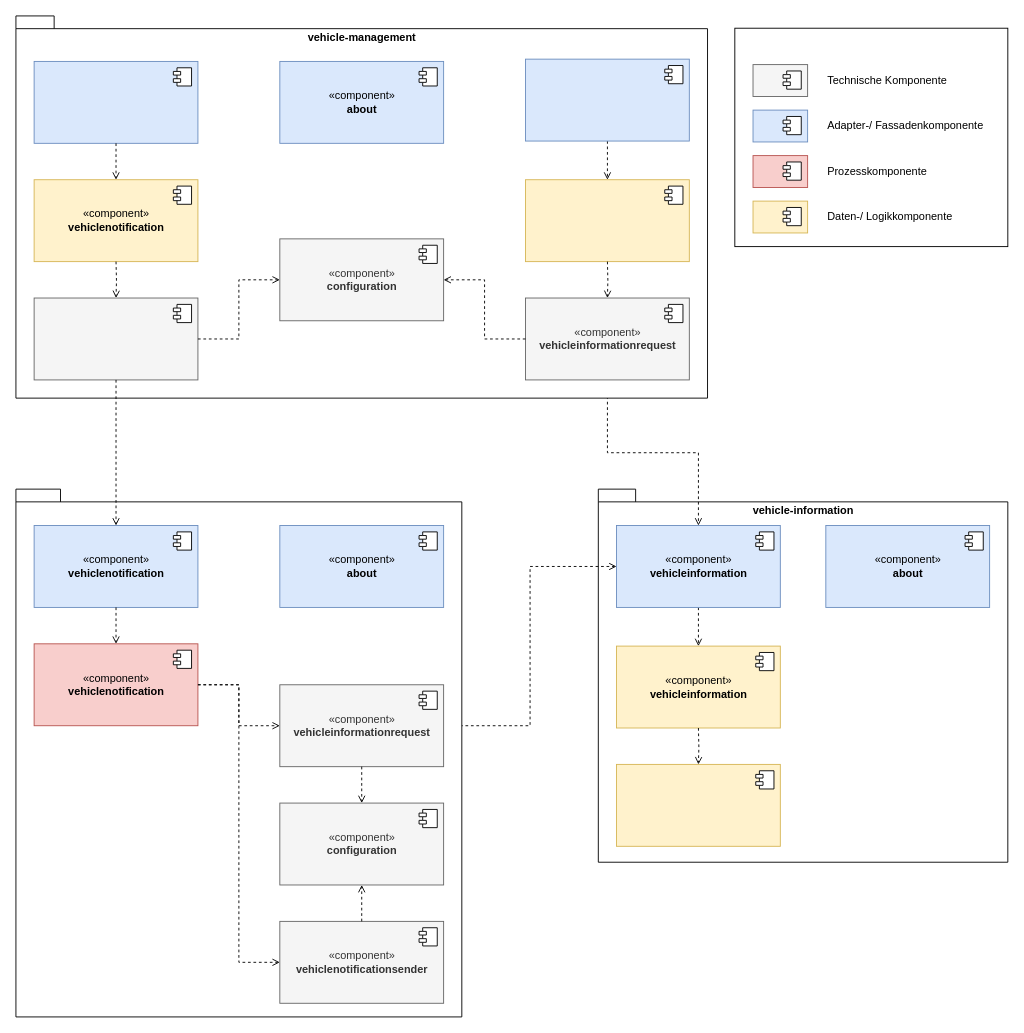
The diagram is 1024 pixels wide and 1033 high, and some of its shapes have lost their labels. The box of each missing label's shape, as (x1, y1, x2, y2) in pixels:
Legende: (734, 27, 1008, 247)
vehicle-services: (15, 488, 462, 1017)
«component» notification: (33, 61, 198, 143)
«component» store: (616, 763, 780, 846)
«component» vehicle: (525, 58, 689, 141)
«component» vehiclemanagement: (525, 179, 689, 262)
«component» vehicleservicesrequest: (33, 297, 198, 380)
